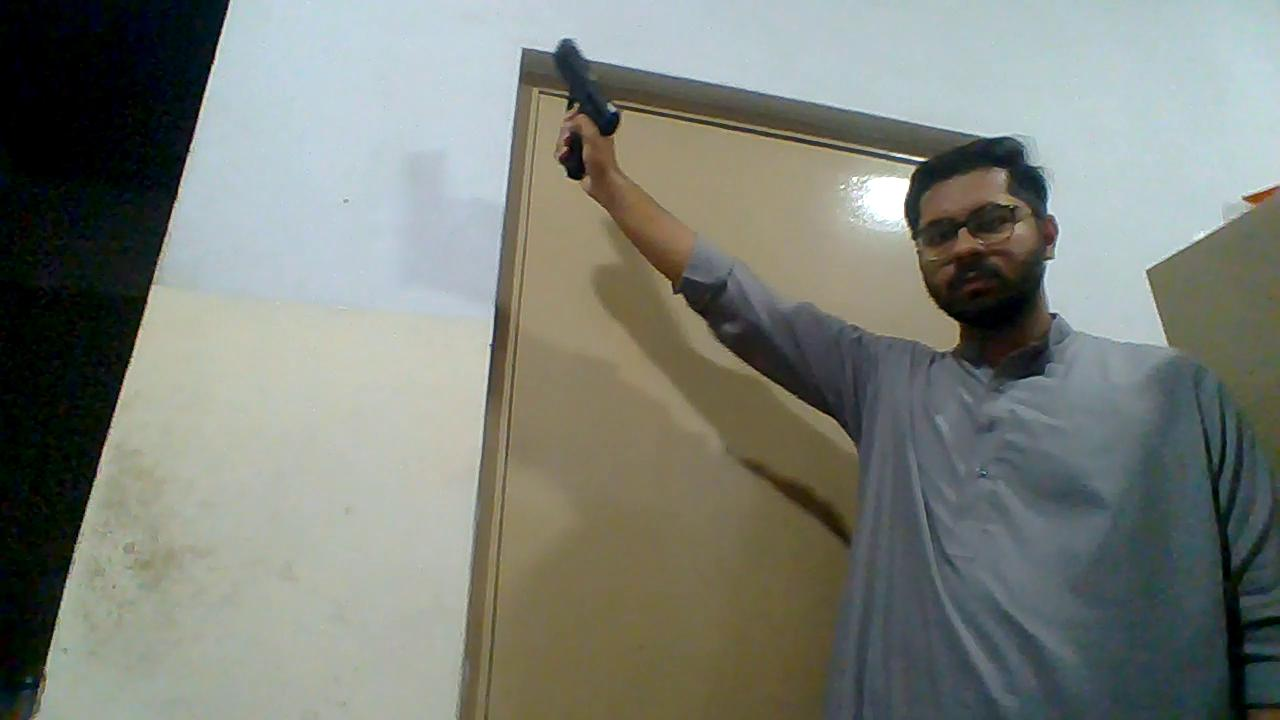criminal: (553, 34, 1280, 720)
weapon: (553, 36, 622, 184)
